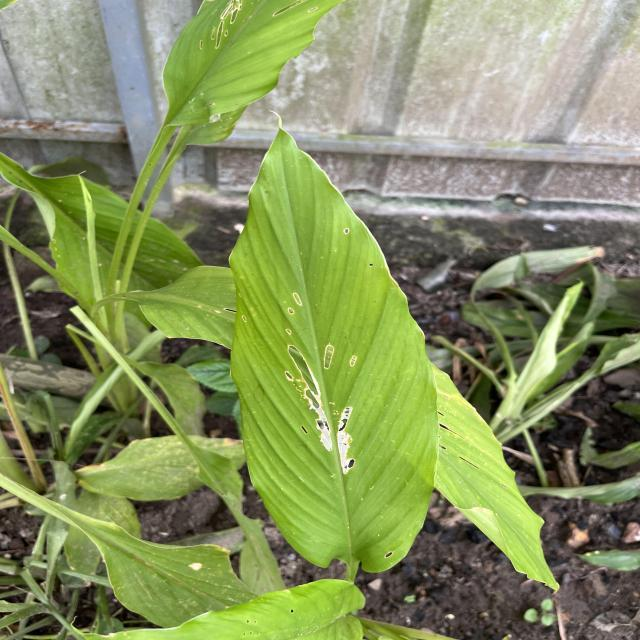Curcuma longa: (223, 105, 442, 580)
